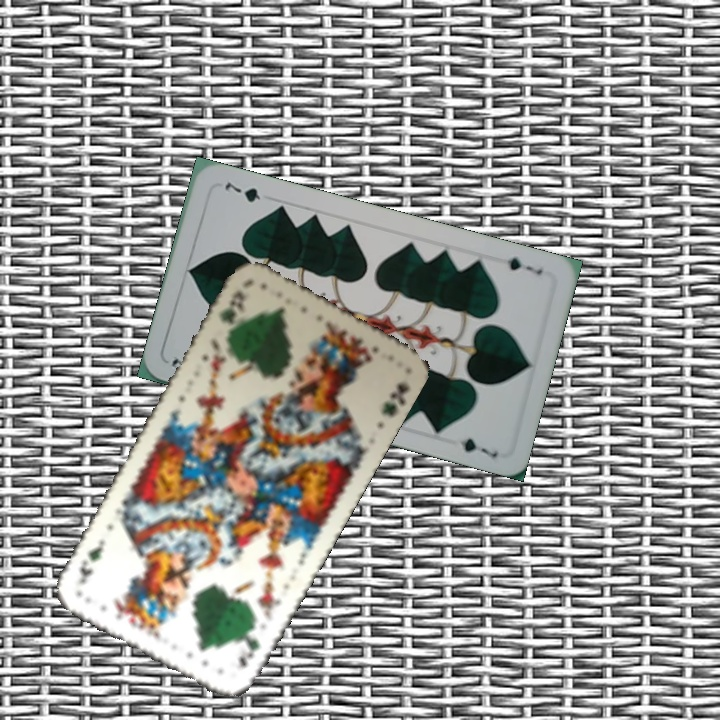G7: (503, 253, 545, 277)
GK: (235, 620, 263, 670), (215, 287, 248, 328)
